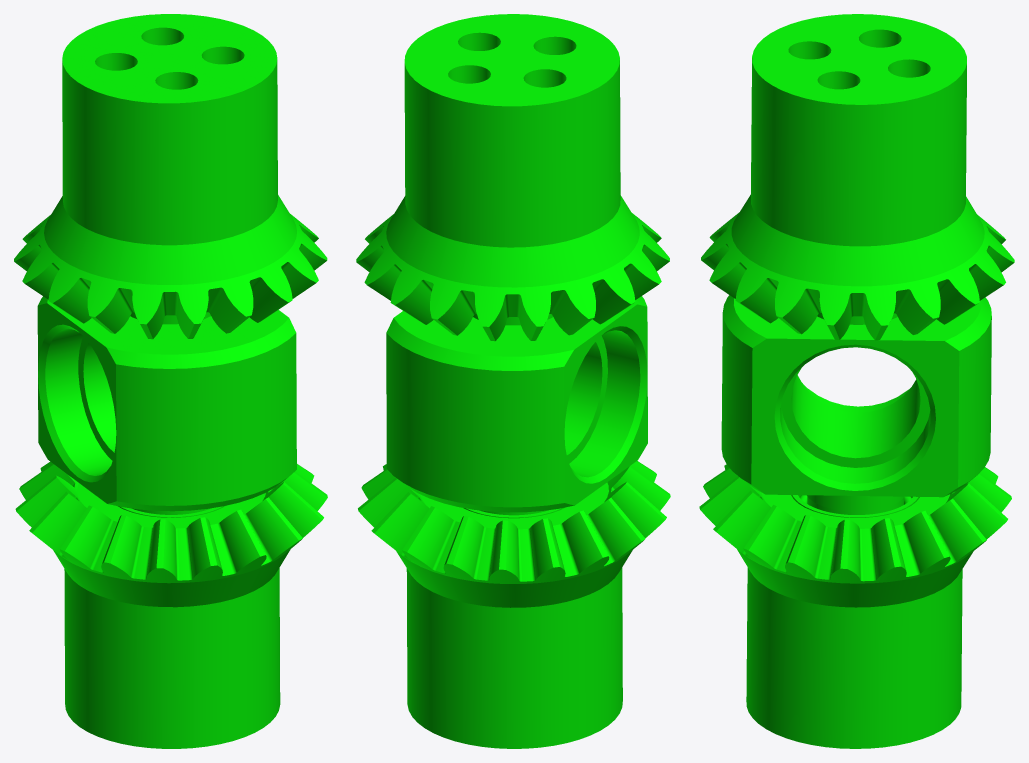
Rendered from 7_diff_crossbar_link.glb.
3 renders of one model, left to right at view 1: azimuth 30°, elevation 25°; view 2: azimuth 150°, elevation 25°; view 3: azimuth 270°, elevation 25°, orthographic.
Visible parts, largest first — view 1: Base_Pignon_AB, Base_Pignon_AB.001, Body1.004; view 2: Base_Pignon_AB, Base_Pignon_AB.001, Body1.004; view 3: Base_Pignon_AB, Base_Pignon_AB.001, Body1.004, Body3.003.
Part boxes in pixels (x1,y1,x2,y2): Base_Pignon_AB: (14, 14, 327, 339); Base_Pignon_AB.001: (15, 461, 327, 748); Body1.004: (37, 296, 296, 511); Base_Pignon_AB: (356, 14, 669, 341); Base_Pignon_AB.001: (358, 461, 670, 748); Body1.004: (386, 296, 647, 512); Base_Pignon_AB: (701, 14, 1014, 340); Base_Pignon_AB.001: (699, 464, 1011, 748); Body1.004: (721, 295, 991, 511); Body3.003: (791, 495, 919, 517).
Bounding box in the file's own units: 0.0291 × 0.0662 × 0.0293.
